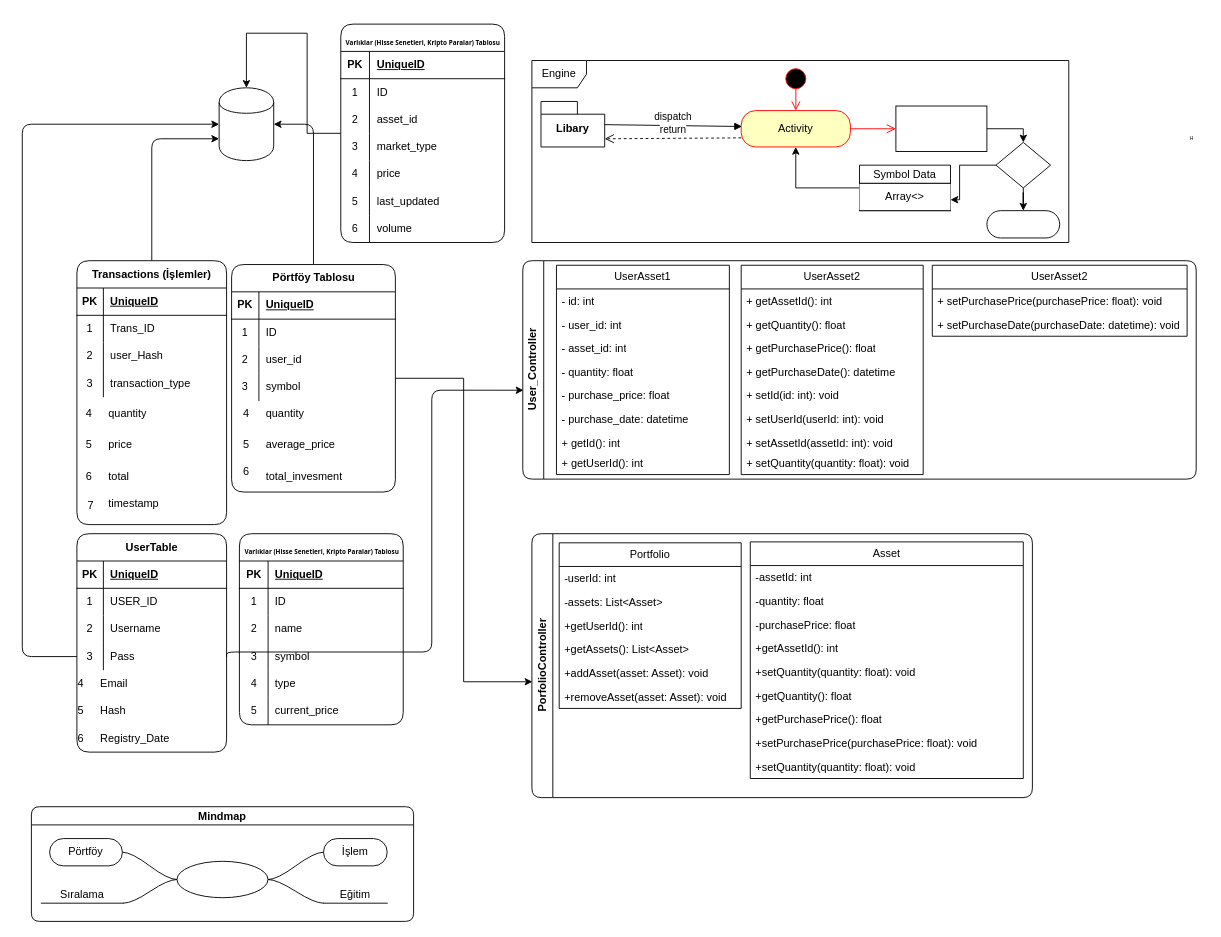
This 1221x937 diagram has some shape labels left out. The centre of each missing label's shape, as x and y in pixels:
Ana fikir: the point at 222,879
Database: the point at 246,124
Kullanıcı: Symbol: the point at 941,128
Refuse Page: the point at 1023,224
Symbol?: the point at 1023,165
